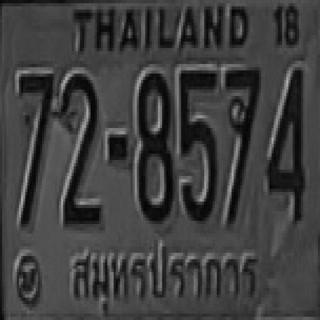N02: (59, 72, 99, 222)
N04: (266, 64, 304, 221)
N05: (178, 67, 216, 221)
N07: (17, 72, 55, 226), (223, 66, 259, 226)
N08: (137, 70, 173, 221)
P57: (63, 236, 262, 318)
